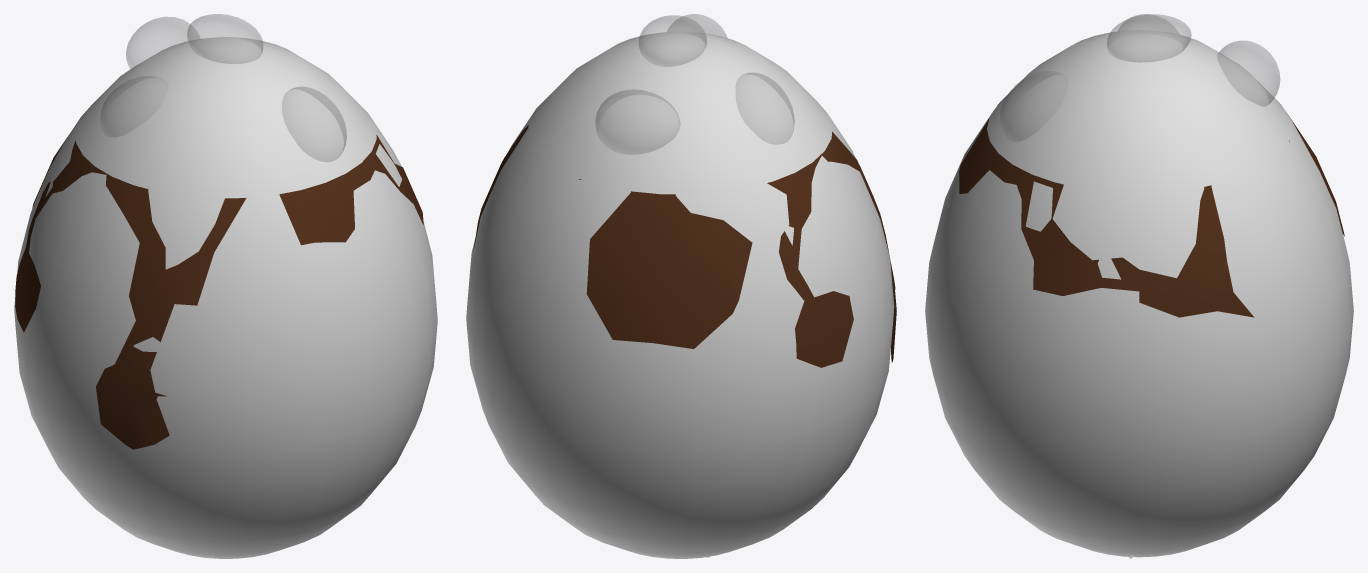
The model's file is madein.glb.
The picture shows the model from 3 angles, left to right: view 1: azimuth 30°, elevation 25°; view 2: azimuth 150°, elevation 25°; view 3: azimuth 270°, elevation 25°; orthographic projection.
Parts seen in each view (by area): view 1: 外殻, 液, 目; view 2: 外殻, 液, 目; view 3: 外殻, 液, 目.
Part boxes in pixels (x1=…): 外殻: x1=14, y1=37, x2=437, y2=558; 液: x1=15, y1=135, x2=423, y2=449; 目: x1=100, y1=14, x2=346, y2=161; 外殻: x1=466, y1=31, x2=894, y2=558; 液: x1=473, y1=125, x2=896, y2=367; 目: x1=595, y1=14, x2=794, y2=154; 外殻: x1=925, y1=30, x2=1353, y2=557; 液: x1=959, y1=115, x2=1344, y2=317; 目: x1=1000, y1=14, x2=1279, y2=141.
Bounding box in the file's own units: 3.34 × 4.49 × 3.34.
